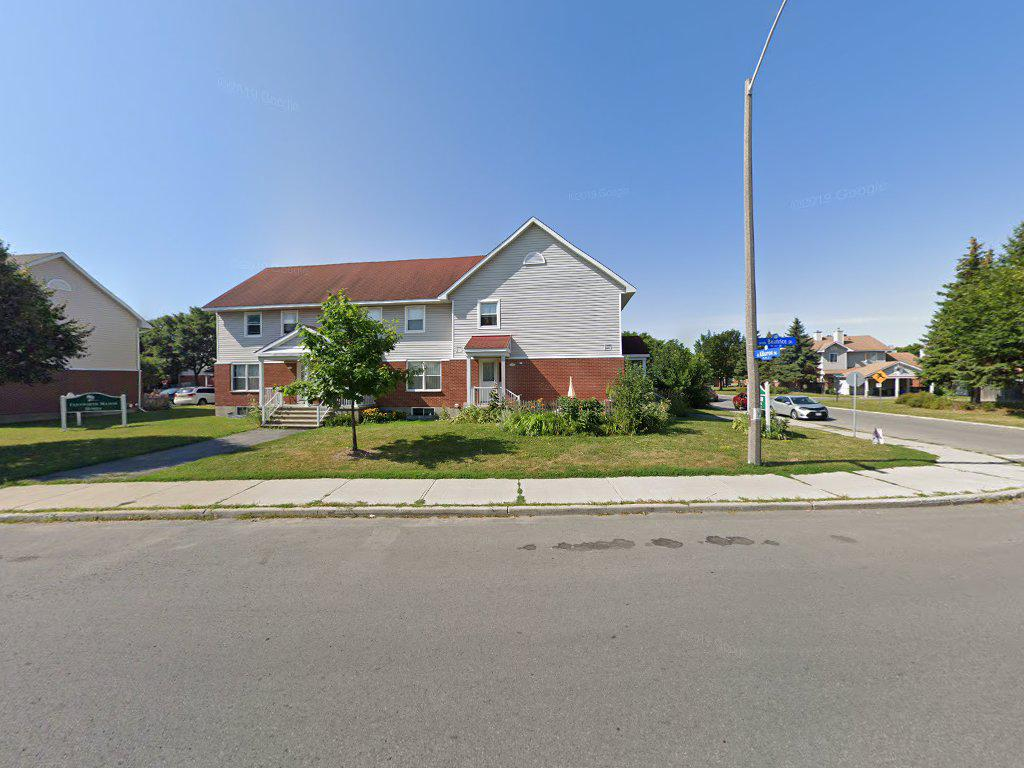trunk: (344, 398, 367, 462)
